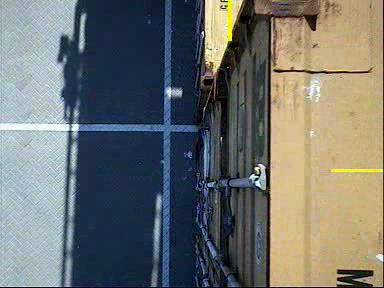groundmarker_2: (107, 177, 208, 225)
